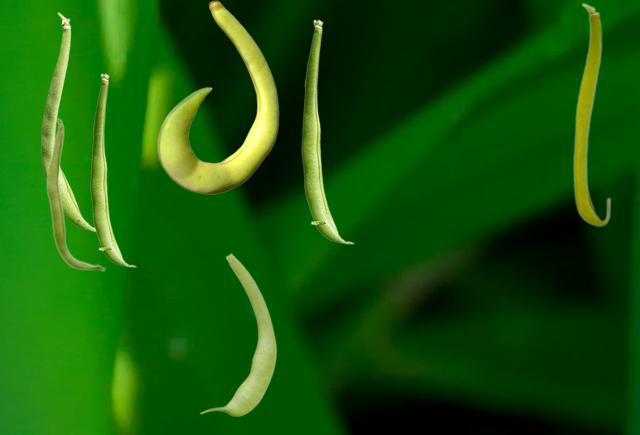french_bean: (157, 0, 278, 193), (199, 252, 276, 415), (301, 19, 354, 243), (41, 12, 94, 231), (45, 117, 105, 271), (90, 73, 136, 266), (572, 2, 610, 226)
